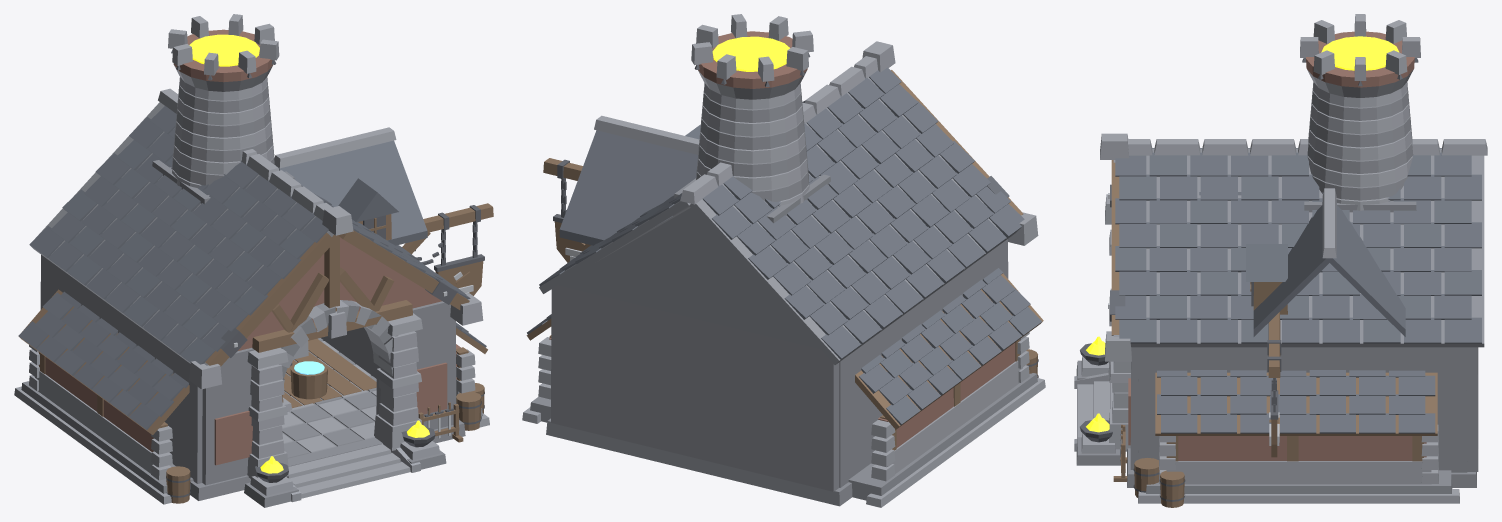
The model's file is BlacksmithForge.fbx.
The picture shows the model from 3 angles, left to right: view 1: azimuth 30°, elevation 25°; view 2: azimuth 150°, elevation 25°; view 3: azimuth 270°, elevation 25°; orthographic projection. The views are drawn at different scales.
Visible parts, largest first — view 1: Forge_RoofAndTimber, Forge_StoneShell, Forge_ExteriorBraziersSign, Forge_InteriorAnvilHearth; view 2: Forge_StoneShell, Forge_RoofAndTimber, Forge_ExteriorBraziersSign; view 3: Forge_RoofAndTimber, Forge_StoneShell, Forge_ExteriorBraziersSign.
Boxes of the visible parts, x1,y1,x2,y2 form: Forge_RoofAndTimber: (18, 88, 487, 451); Forge_StoneShell: (14, 14, 489, 504); Forge_ExteriorBraziersSign: (166, 203, 493, 507); Forge_InteriorAnvilHearth: (282, 338, 376, 411); Forge_StoneShell: (522, 14, 1045, 507); Forge_RoofAndTimber: (526, 41, 1043, 450); Forge_ExteriorBraziersSign: (543, 158, 1038, 377); Forge_RoofAndTimber: (1100, 133, 1487, 461); Forge_StoneShell: (1074, 14, 1478, 503); Forge_ExteriorBraziersSign: (1076, 312, 1281, 507).
Size of the model in its own units: 40.3 by 34.03 by 33.67.
